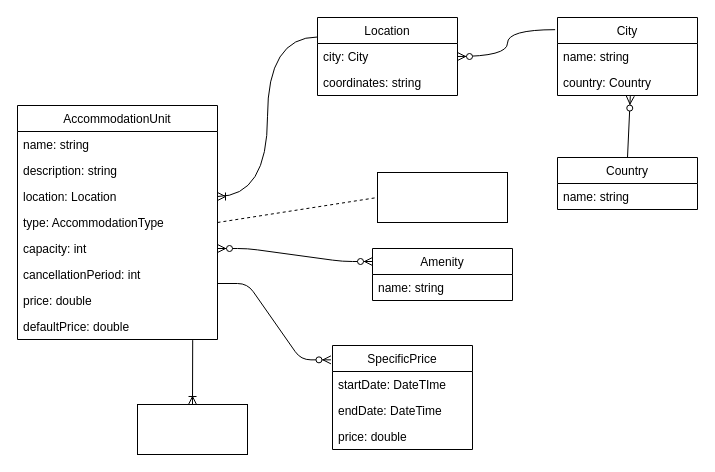
Image size: 715x472. Some labels were removed from this diagram. The centre of each missing label's shape, as x and y in pixels:
"AccomodationType" belongs at [442,197].
"Image" belongs at [192,429].
